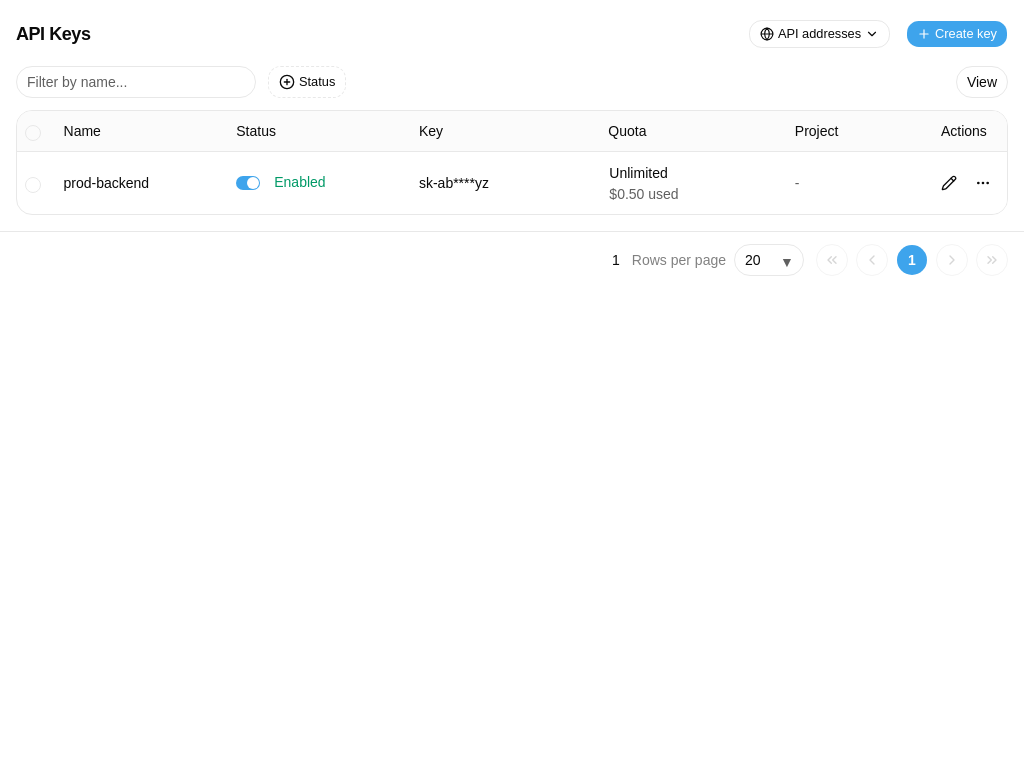
Test case: KeysPage mutations › creating a key shows the one-time secret
The image size is (1024, 768).
Expected: the text "prod-backend" is shown, [64,175,149,191]
Click the button "Create key". click: click(957, 34)
box: [906,20,1008,48]
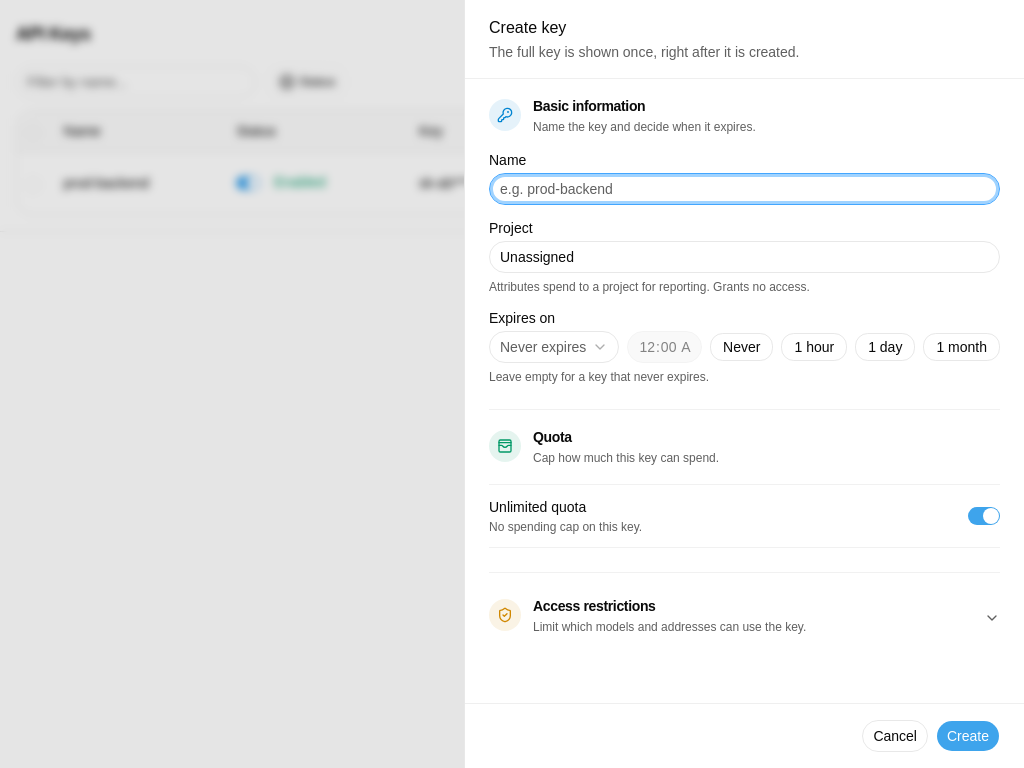
Type "new" into the field labelled "Name". click: (744, 189)
box: [489,173,1000,205]
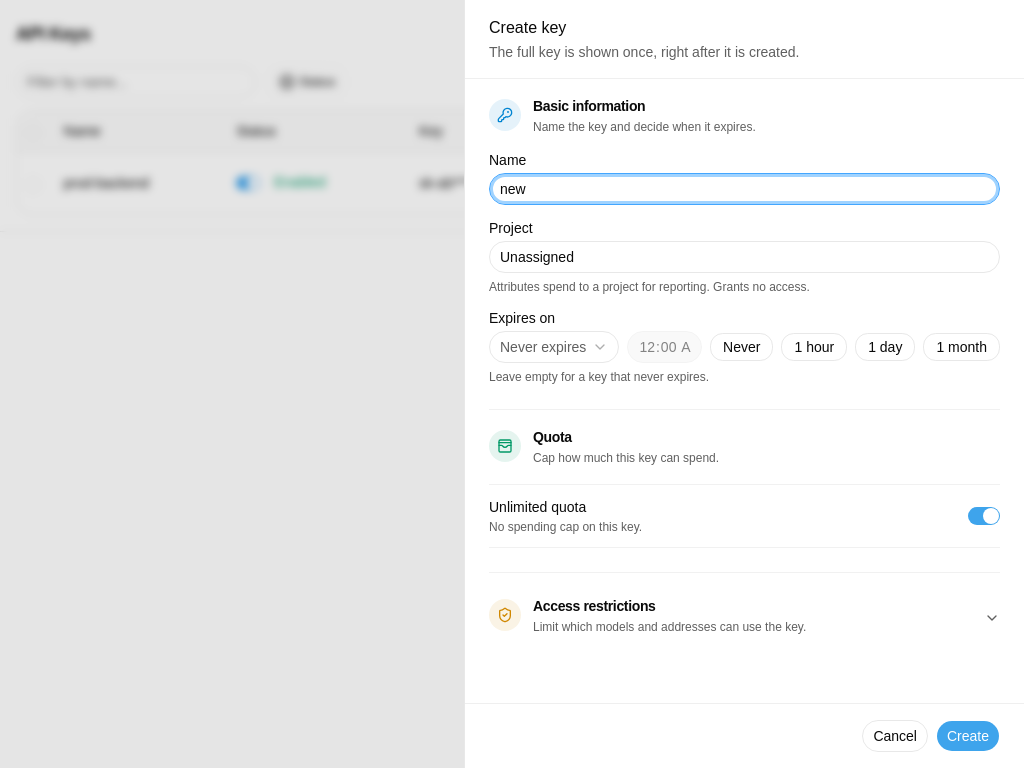
Click the button "Create". click: click(968, 736)
box: [936,720,1000,752]
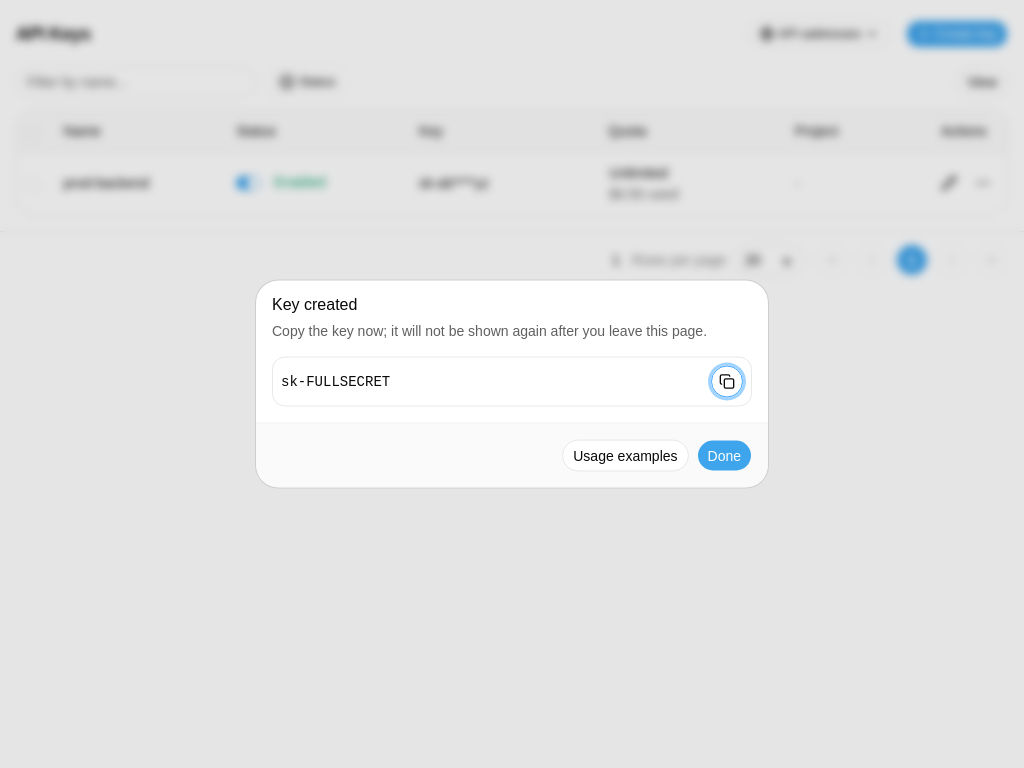
Expected: the text with test id "issued-key" reads "sk-FULLSECRET", [281,374,390,390]
